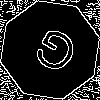G: (25, 25, 82, 85)
